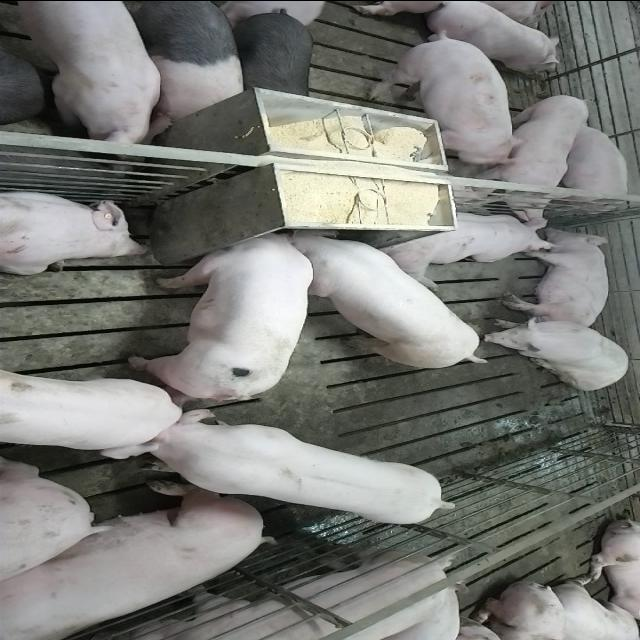Feeding: (126, 220, 315, 396), (285, 230, 497, 372)
Lateral_lying: (500, 227, 612, 331)
Sitting: (481, 316, 634, 390)
Standing: (1, 544, 470, 640), (121, 410, 454, 524), (0, 2, 165, 144), (368, 32, 526, 166), (0, 373, 182, 464), (114, 2, 248, 124), (225, 6, 316, 108)
Sternal_lying: (0, 187, 152, 275), (375, 208, 555, 282), (419, 2, 565, 70)
